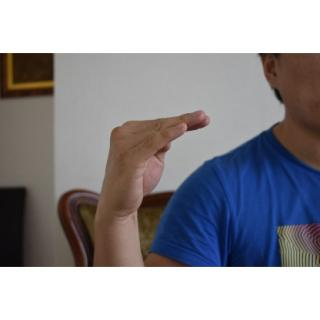HAA: (98, 108, 214, 216)
